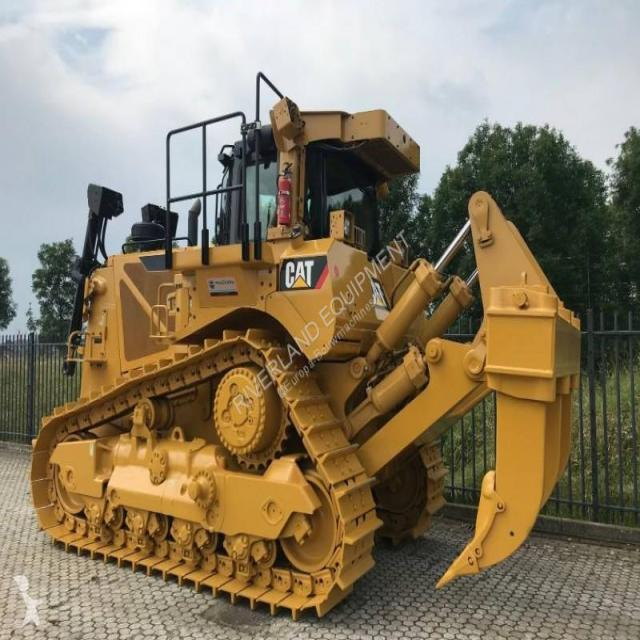buldozerpayloadergrader: (32, 82, 581, 625)
